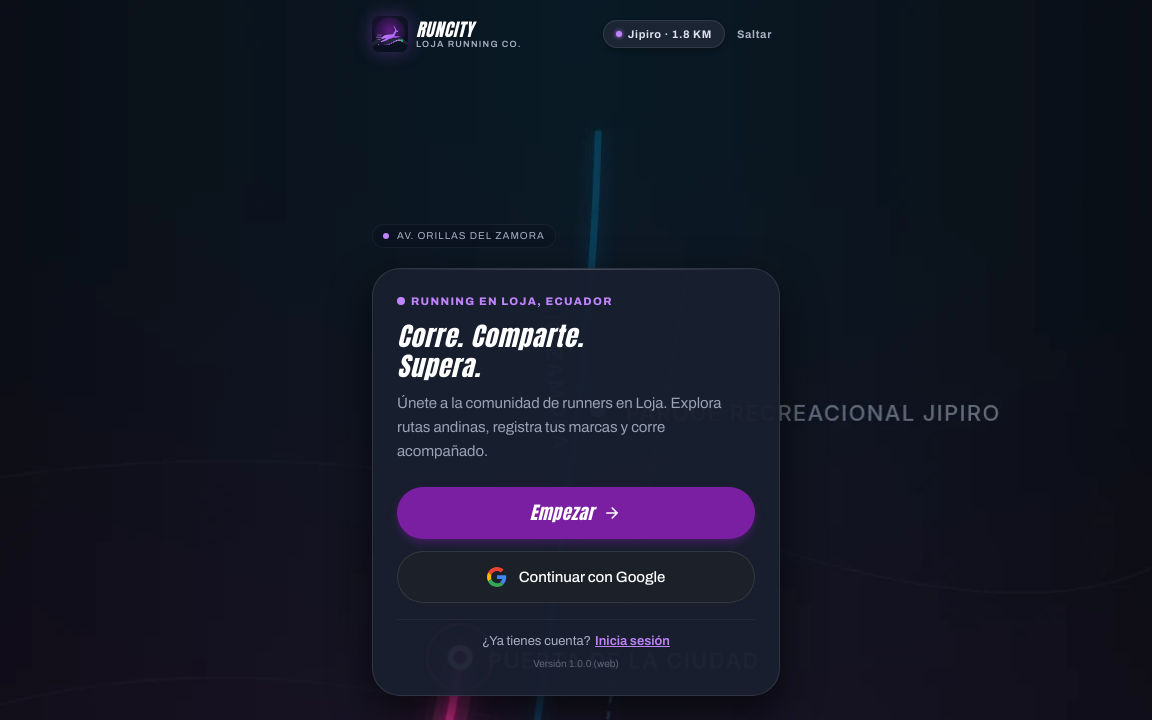
Test case: acceso y rutas protegidas › Saltar lleva a inicio de sesion
The image size is (1152, 720).
Click the button "Saltar".
click(754, 34)  # box [729, 18, 780, 50]
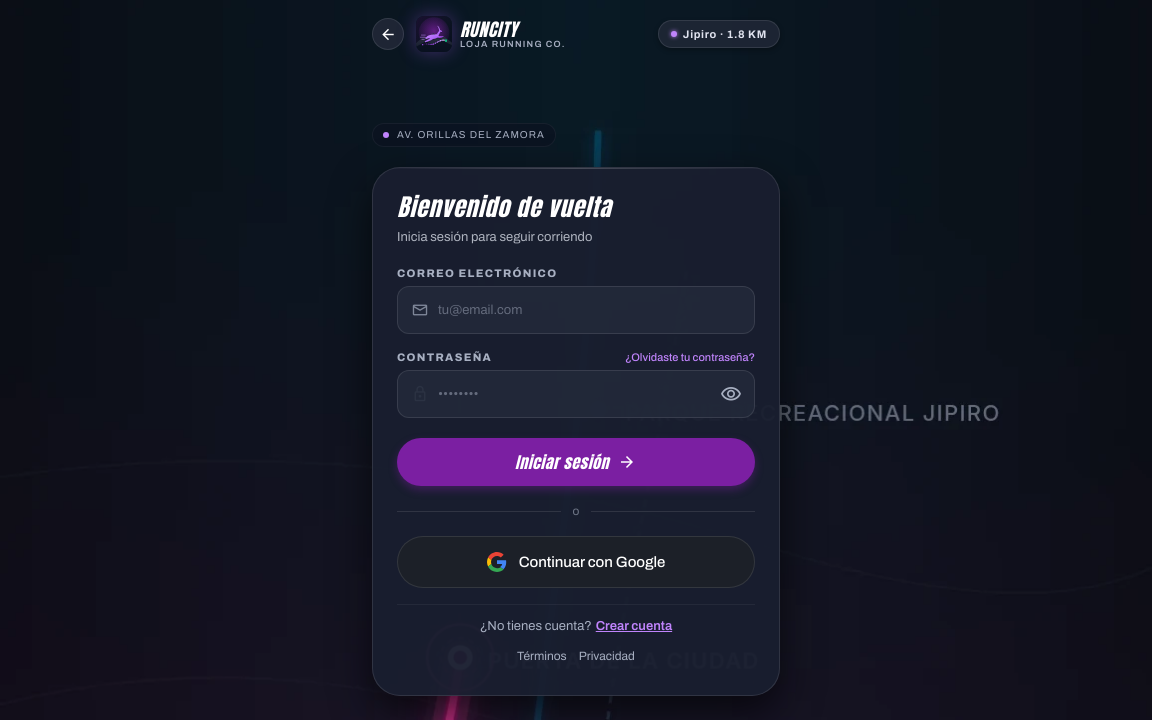
Expected: the heading "Bienvenido de vuelta" is shown, [397, 189, 611, 225]
